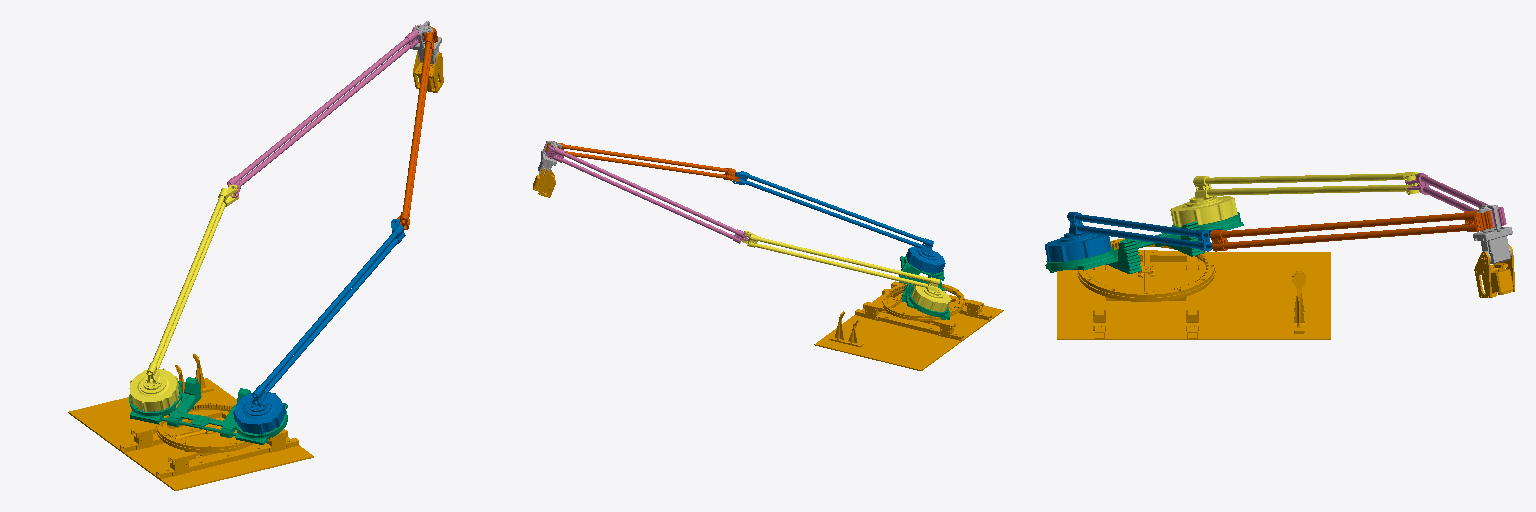
The robot description file, URDF, robot "robot2":
<?xml version="1.0" ?>
<!-- =================================================================================== -->
<!-- |    This document was autogenerated by xacro from ./robot2_description/urdf/robot2.xacro | -->
<!-- |    EDITING THIS FILE BY HAND IS NOT RECOMMENDED                                 | -->
<!-- =================================================================================== -->
<robot name="robot2">
  <material name="silver_default">
    <color rgba="0.700 0.700 0.700 1.000"/>
  </material>
  <material name="">
    <color rgba="0.3137254901960784 0.3137254901960784 0.3137254901960784 1.0"/>
  </material>
  <transmission name="回転 1_tran">
    <type>transmission_interface/SimpleTransmission</type>
    <joint name="回転 1">
      <hardwareInterface>hardware_interface/EffortJointInterface</hardwareInterface>
    </joint>
    <actuator name="回転 1_actr">
      <hardwareInterface>hardware_interface/EffortJointInterface</hardwareInterface>
      <mechanicalReduction>1</mechanicalReduction>
    </actuator>
  </transmission>
  <transmission name="回転 2_tran">
    <type>transmission_interface/SimpleTransmission</type>
    <joint name="回転 2">
      <hardwareInterface>hardware_interface/EffortJointInterface</hardwareInterface>
    </joint>
    <actuator name="回転 2_actr">
      <hardwareInterface>hardware_interface/EffortJointInterface</hardwareInterface>
      <mechanicalReduction>1</mechanicalReduction>
    </actuator>
  </transmission>
  <transmission name="回転 3_tran">
    <type>transmission_interface/SimpleTransmission</type>
    <joint name="回転 3">
      <hardwareInterface>hardware_interface/EffortJointInterface</hardwareInterface>
    </joint>
    <actuator name="回転 3_actr">
      <hardwareInterface>hardware_interface/EffortJointInterface</hardwareInterface>
      <mechanicalReduction>1</mechanicalReduction>
    </actuator>
  </transmission>
  <transmission name="回転 4_tran">
    <type>transmission_interface/SimpleTransmission</type>
    <joint name="回転 4">
      <hardwareInterface>hardware_interface/EffortJointInterface</hardwareInterface>
    </joint>
    <actuator name="回転 4_actr">
      <hardwareInterface>hardware_interface/EffortJointInterface</hardwareInterface>
      <mechanicalReduction>1</mechanicalReduction>
    </actuator>
  </transmission>
  <transmission name="回転 5_tran">
    <type>transmission_interface/SimpleTransmission</type>
    <joint name="回転 5">
      <hardwareInterface>hardware_interface/EffortJointInterface</hardwareInterface>
    </joint>
    <actuator name="回転 5_actr">
      <hardwareInterface>hardware_interface/EffortJointInterface</hardwareInterface>
      <mechanicalReduction>1</mechanicalReduction>
    </actuator>
  </transmission>
  <transmission name="回転 11_tran">
    <type>transmission_interface/SimpleTransmission</type>
    <joint name="回転 11">
      <hardwareInterface>hardware_interface/EffortJointInterface</hardwareInterface>
    </joint>
    <actuator name="回転 11_actr">
      <hardwareInterface>hardware_interface/EffortJointInterface</hardwareInterface>
      <mechanicalReduction>1</mechanicalReduction>
    </actuator>
  </transmission>
  <transmission name="回転 18_tran">
    <type>transmission_interface/SimpleTransmission</type>
    <joint name="回転 18">
      <hardwareInterface>hardware_interface/EffortJointInterface</hardwareInterface>
    </joint>
    <actuator name="回転 18_actr">
      <hardwareInterface>hardware_interface/EffortJointInterface</hardwareInterface>
      <mechanicalReduction>1</mechanicalReduction>
    </actuator>
  </transmission>
  <transmission name="回転 20_tran">
    <type>transmission_interface/SimpleTransmission</type>
    <joint name="回転 20">
      <hardwareInterface>hardware_interface/EffortJointInterface</hardwareInterface>
    </joint>
    <actuator name="回転 20_actr">
      <hardwareInterface>hardware_interface/EffortJointInterface</hardwareInterface>
      <mechanicalReduction>1</mechanicalReduction>
    </actuator>
  </transmission>
  <transmission name="回転 21_tran">
    <type>transmission_interface/SimpleTransmission</type>
    <joint name="回転 21">
      <hardwareInterface>hardware_interface/EffortJointInterface</hardwareInterface>
    </joint>
    <actuator name="回転 21_actr">
      <hardwareInterface>hardware_interface/EffortJointInterface</hardwareInterface>
      <mechanicalReduction>1</mechanicalReduction>
    </actuator>
  </transmission>
  <link name="base_link">
    <inertial>
      <origin rpy="0 0 0" xyz="0.0021492224979336194 0.05035481983310268 0.011642602005985042"/>
      <mass value="0.5608785964014465"/>
      <inertia ixx="0.00675" ixy="-0.000208" ixz="-1.2e-05" iyy="0.00419" iyz="0.000225" izz="0.010643"/>
    </inertial>
    <visual>
      <origin rpy="0 0 0" xyz="0 0 0"/>
      <geometry>
        <mesh filename="package://robot2_description/meshes/base_link.stl" scale="0.001 0.001 0.001"/>
      </geometry>
      <material name=""/>
    </visual>
    <collision>
      <origin rpy="0 0 0" xyz="0 0 0"/>
      <geometry>
        <mesh filename="package://robot2_description/meshes/base_link.stl" scale="0.001 0.001 0.001"/>
      </geometry>
    </collision>
  </link>
  <link name="base-disintegurate3_v1_1">
    <inertial>
      <origin rpy="0 0 0" xyz="0.005266660630025134 0.0025401253351865476 0.006066235848114929"/>
      <mass value="0.22737830192408823"/>
      <inertia ixx="0.001139" ixy="-2.4e-05" ixz="-1e-05" iyy="0.001107" iyz="-0.0" izz="0.002122"/>
    </inertial>
    <visual>
      <origin rpy="0 0 0" xyz="0.0 -0.0 -0.05"/>
      <geometry>
        <mesh filename="package://robot2_description/meshes/base-disintegurate3_v1_1.stl" scale="0.001 0.001 0.001"/>
      </geometry>
      <material name=""/>
    </visual>
    <collision>
      <origin rpy="0 0 0" xyz="0.0 -0.0 -0.05"/>
      <geometry>
        <mesh filename="package://robot2_description/meshes/base-disintegurate3_v1_1.stl" scale="0.001 0.001 0.001"/>
      </geometry>
    </collision>
  </link>
  <link name="base-disintegurate4_v1_1">
    <inertial>
      <origin rpy="0 0 0" xyz="0.04582353194421808 0.003093089706767067 0.01930902909294417"/>
      <mass value="0.2102831990454996"/>
      <inertia ixx="0.001297" ixy="0.000713" ixz="-6.9e-05" iyy="0.000757" iyz="-3e-05" izz="0.001974"/>
    </inertial>
    <visual>
      <origin rpy="0 0 0" xyz="0.047705 0.000482 -0.062"/>
      <geometry>
        <mesh filename="package://robot2_description/meshes/base-disintegurate4_v1_1.stl" scale="0.001 0.001 0.001"/>
      </geometry>
      <material name=""/>
    </visual>
    <collision>
      <origin rpy="0 0 0" xyz="0.047705 0.000482 -0.062"/>
      <geometry>
        <mesh filename="package://robot2_description/meshes/base-disintegurate4_v1_1.stl" scale="0.001 0.001 0.001"/>
      </geometry>
    </collision>
  </link>
  <link name="base-disintegurate5_v1_1">
    <inertial>
      <origin rpy="0 0 0" xyz="0.03515220637047642 0.03344392909904248 0.04151926678581974"/>
      <mass value="0.17650962184421506"/>
      <inertia ixx="0.001998" ixy="-0.001423" ixz="-0.000967" iyy="0.002234" iyz="-0.000887" izz="0.002989"/>
    </inertial>
    <visual>
      <origin rpy="0 0 0" xyz="0.067986 -0.086895 -0.092501"/>
      <geometry>
        <mesh filename="package://robot2_description/meshes/base-disintegurate5_v1_1.stl" scale="0.001 0.001 0.001"/>
      </geometry>
      <material name=""/>
    </visual>
    <collision>
      <origin rpy="0 0 0" xyz="0.067986 -0.086895 -0.092501"/>
      <geometry>
        <mesh filename="package://robot2_description/meshes/base-disintegurate5_v1_1.stl" scale="0.001 0.001 0.001"/>
      </geometry>
    </collision>
  </link>
  <link name="base-disintegurate6_v1_1">
    <inertial>
      <origin rpy="0 0 0" xyz="0.04460466843110386 0.0191276233320319 0.04150116119084127"/>
      <mass value="0.17650962334160306"/>
      <inertia ixx="0.001187" ixy="-0.001084" ixz="-0.001191" iyy="0.003045" iyz="-0.00055" izz="0.002989"/>
    </inertial>
    <visual>
      <origin rpy="0 0 0" xyz="-0.053769 0.096342 -0.092501"/>
      <geometry>
        <mesh filename="package://robot2_description/meshes/base-disintegurate6_v1_1.stl" scale="0.001 0.001 0.001"/>
      </geometry>
      <material name=""/>
    </visual>
    <collision>
      <origin rpy="0 0 0" xyz="-0.053769 0.096342 -0.092501"/>
      <geometry>
        <mesh filename="package://robot2_description/meshes/base-disintegurate6_v1_1.stl" scale="0.001 0.001 0.001"/>
      </geometry>
    </collision>
  </link>
  <link name="base-disintegurate7_v1_1">
    <inertial>
      <origin rpy="0 0 0" xyz="0.1671601669415777 0.208933062117106 0.09978407899189912"/>
      <mass value="0.04387247122504098"/>
      <inertia ixx="0.001059" ixy="-0.00065" ixz="-0.000273" iyy="0.000635" iyz="-0.000377" izz="0.001369"/>
    </inertial>
    <visual>
      <origin rpy="0 0 0" xyz="-0.464894 -0.105487 -0.302909"/>
      <geometry>
        <mesh filename="package://robot2_description/meshes/base-disintegurate7_v1_1.stl" scale="0.001 0.001 0.001"/>
      </geometry>
      <material name=""/>
    </visual>
    <collision>
      <origin rpy="0 0 0" xyz="-0.464894 -0.105487 -0.302909"/>
      <geometry>
        <mesh filename="package://robot2_description/meshes/base-disintegurate7_v1_1.stl" scale="0.001 0.001 0.001"/>
      </geometry>
    </collision>
  </link>
  <link name="base-disintegurate7_v1__1__1">
    <inertial>
      <origin rpy="0 0 0" xyz="0.257549683667159 0.07327149184067328 0.09922024329514112"/>
      <mass value="0.04387247122504098"/>
      <inertia ixx="0.000234" ixy="-0.000304" ixz="-0.000453" iyy="0.001459" iyz="-0.000106" izz="0.001369"/>
    </inertial>
    <visual>
      <origin rpy="0 0 0" xyz="-0.277362 -0.387716 -0.302909"/>
      <geometry>
        <mesh filename="package://robot2_description/meshes/base-disintegurate7_v1__1__1.stl" scale="0.001 0.001 0.001"/>
      </geometry>
      <material name=""/>
    </visual>
    <collision>
      <origin rpy="0 0 0" xyz="-0.277362 -0.387716 -0.302909"/>
      <geometry>
        <mesh filename="package://robot2_description/meshes/base-disintegurate7_v1__1__1.stl" scale="0.001 0.001 0.001"/>
      </geometry>
    </collision>
  </link>
  <link name="base-disintegurate8_v1_1">
    <inertial>
      <origin rpy="0 0 0" xyz="0.00688614293608103 0.01794723838108353 -0.043045643189845606"/>
      <mass value="0.051380977028046323"/>
      <inertia ixx="2.2e-05" ixy="0.0" ixz="4e-06" iyy="2.2e-05" iyz="3e-06" izz="1.2e-05"/>
    </inertial>
    <visual>
      <origin rpy="0 0 0" xyz="-0.756507 -0.489165 -0.488922"/>
      <geometry>
        <mesh filename="package://robot2_description/meshes/base-disintegurate8_v1_1.stl" scale="0.001 0.001 0.001"/>
      </geometry>
      <material name=""/>
    </visual>
    <collision>
      <origin rpy="0 0 0" xyz="-0.756507 -0.489165 -0.488922"/>
      <geometry>
        <mesh filename="package://robot2_description/meshes/base-disintegurate8_v1_1.stl" scale="0.001 0.001 0.001"/>
      </geometry>
    </collision>
  </link>
  <link name="hand-disi1_v1_1">
    <inertial>
      <origin rpy="0 0 0" xyz="-0.011134487065667664 0.015413598961266206 -0.038856830759737226"/>
      <mass value="0.052712208364185616"/>
      <inertia ixx="1.9e-05" ixy="-0.0" ixz="-0.0" iyy="1.9e-05" iyz="-0.0" izz="1.6e-05"/>
    </inertial>
    <visual>
      <origin rpy="0 0 0" xyz="-0.779858 -0.495376 -0.426043"/>
      <geometry>
        <mesh filename="package://robot2_description/meshes/hand-disi1_v1_1.stl" scale="0.001 0.001 0.001"/>
      </geometry>
      <material name=""/>
    </visual>
    <collision>
      <origin rpy="0 0 0" xyz="-0.779858 -0.495376 -0.426043"/>
      <geometry>
        <mesh filename="package://robot2_description/meshes/hand-disi1_v1_1.stl" scale="0.001 0.001 0.001"/>
      </geometry>
    </collision>
  </link>
  <link name="hand--dis1_v1_1">
    <inertial>
      <origin rpy="0 0 0" xyz="0.013977005536962461 0.006299413187571212 -0.041516132079400025"/>
      <mass value="0.2294129503431717"/>
      <inertia ixx="0.000256" ixy="-1.8e-05" ixz="-2.3e-05" iyy="0.000268" iyz="-9e-06" izz="0.0003"/>
    </inertial>
    <visual>
      <origin rpy="0 0 0" xyz="-0.785723 -0.522085 -0.372011"/>
      <geometry>
        <mesh filename="package://robot2_description/meshes/hand--dis1_v1_1.stl" scale="0.001 0.001 0.001"/>
      </geometry>
      <material name=""/>
    </visual>
    <collision>
      <origin rpy="0 0 0" xyz="-0.785723 -0.522085 -0.372011"/>
      <geometry>
        <mesh filename="package://robot2_description/meshes/hand--dis1_v1_1.stl" scale="0.001 0.001 0.001"/>
      </geometry>
    </collision>
  </link>
  <joint name="回転 1" type="revolute">
    <origin rpy="0 0 0" xyz="0.0 0.0 0.05"/>
    <parent link="base_link"/>
    <child link="base-disintegurate3_v1_1"/>
    <axis xyz="0.0 0.0 -1.0"/>
    <limit effort="100" lower="0.0" upper="6.283185" velocity="100"/>
  </joint>
  <joint name="回転 2" type="revolute">
    <origin rpy="0 0 0" xyz="-0.047705 -0.000482 0.012"/>
    <parent link="base-disintegurate3_v1_1"/>
    <child link="base-disintegurate4_v1_1"/>
    <axis xyz="-0.55343 0.832896 -0.0"/>
    <limit effort="100" lower="-0.349066" upper="0.087266" velocity="100"/>
  </joint>
  <joint name="回転 3" type="revolute">
    <origin rpy="0 0 0" xyz="-0.020281 0.087377 0.030501"/>
    <parent link="base-disintegurate4_v1_1"/>
    <child link="base-disintegurate5_v1_1"/>
    <axis xyz="0.284867 0.189284 -0.939693"/>
    <limit effort="100" lower="-1.047198" upper="0.0" velocity="100"/>
  </joint>
  <joint name="回転 4" type="revolute">
    <origin rpy="0 0 0" xyz="0.101474 -0.09586 0.030501"/>
    <parent link="base-disintegurate4_v1_1"/>
    <child link="base-disintegurate6_v1_1"/>
    <axis xyz="0.284867 0.189284 -0.939693"/>
    <limit effort="100" lower="0.0" upper="1.047198" velocity="100"/>
  </joint>
  <joint name="回転 5" type="revolute">
    <origin rpy="0 0 0" xyz="0.411125 0.201829 0.210408"/>
    <parent link="base-disintegurate6_v1_1"/>
    <child link="base-disintegurate7_v1_1"/>
    <axis xyz="-0.284867 -0.189284 0.939693"/>
    <limit effort="100" lower="0.0" upper="2.617994" velocity="100"/>
  </joint>
  <joint name="回転 11" type="revolute">
    <origin rpy="0 0 0" xyz="0.345348 0.300821 0.210408"/>
    <parent link="base-disintegurate5_v1_1"/>
    <child link="base-disintegurate7_v1__1__1"/>
    <axis xyz="-0.284867 -0.189284 0.939693"/>
    <limit effort="100" lower="-0.523599" upper="1.570796" velocity="100"/>
  </joint>
  <joint name="回転 18" type="revolute">
    <origin rpy="0 0 0" xyz="0.291613 0.383678 0.186013"/>
    <parent link="base-disintegurate7_v1_1"/>
    <child link="base-disintegurate8_v1_1"/>
    <axis xyz="-0.284867 -0.189284 0.939693"/>
    <limit effort="100" lower="-1.570796" upper="0.0" velocity="100"/>
  </joint>
  <joint name="回転 20" type="revolute">
    <origin rpy="0 0 0" xyz="0.023351 0.006211 -0.062879"/>
    <parent link="base-disintegurate8_v1_1"/>
    <child link="hand-disi1_v1_1"/>
    <axis xyz="-0.55343 0.832896 -0.0"/>
    <limit effort="100" lower="-1.745329" upper="1.396263" velocity="100"/>
  </joint>
  <joint name="回転 21" type="revolute">
    <origin rpy="0 0 0" xyz="0.005865 0.026709 -0.054032"/>
    <parent link="hand-disi1_v1_1"/>
    <child link="hand--dis1_v1_1"/>
    <axis xyz="-0.284867 -0.189284 0.939693"/>
    <limit effort="100" lower="-1.570796" upper="1.570796" velocity="100"/>
  </joint>
</robot>

--- Facts derived from the render (not from the file) ---
3 views of the same robot in one strip: view 1: azimuth 30°, elevation 25°; view 2: azimuth 150°, elevation 25°; view 3: azimuth 270°, elevation 25° (orthographic).
Robot: robot2 — 10 links, 9 joints (9 revolute); root link base_link; default pose: all joints at 0.
Links seen in each view (by area): view 1: base_link, base-disintegurate6_v1_1, base-disintegurate5_v1_1, base-disintegurate4_v1_1, base-disintegurate7_v1__1__1, base-disintegurate7_v1_1, hand-disi1_v1_1; view 2: base_link, base-disintegurate6_v1_1, base-disintegurate5_v1_1, base-disintegurate7_v1__1__1, base-disintegurate7_v1_1, base-disintegurate4_v1_1; view 3: base_link, base-disintegurate5_v1_1, base-disintegurate7_v1_1, base-disintegurate6_v1_1, base-disintegurate4_v1_1, hand-disi1_v1_1, base-disintegurate7_v1__1__1, base-disintegurate8_v1_1.
Link boxes in pixels (bbox=[...]): base_link: bbox=[68, 354, 313, 490]; base-disintegurate6_v1_1: bbox=[233, 219, 405, 434]; base-disintegurate5_v1_1: bbox=[129, 184, 238, 411]; base-disintegurate4_v1_1: bbox=[129, 377, 287, 444]; base-disintegurate7_v1__1__1: bbox=[227, 24, 424, 197]; base-disintegurate7_v1_1: bbox=[397, 26, 437, 229]; hand-disi1_v1_1: bbox=[413, 51, 443, 92]; base_link: bbox=[814, 281, 1003, 370]; base-disintegurate6_v1_1: bbox=[732, 171, 945, 273]; base-disintegurate5_v1_1: bbox=[742, 231, 951, 311]; base-disintegurate7_v1__1__1: bbox=[546, 145, 748, 243]; base-disintegurate7_v1_1: bbox=[545, 141, 740, 181]; base-disintegurate4_v1_1: bbox=[899, 256, 949, 319]; base_link: bbox=[1057, 238, 1330, 339]; base-disintegurate5_v1_1: bbox=[1170, 172, 1418, 226]; base-disintegurate7_v1_1: bbox=[1210, 210, 1493, 251]; base-disintegurate6_v1_1: bbox=[1045, 212, 1221, 261]; base-disintegurate4_v1_1: bbox=[1045, 212, 1243, 273]; hand-disi1_v1_1: bbox=[1474, 245, 1514, 297]; base-disintegurate7_v1__1__1: bbox=[1405, 173, 1506, 226]; base-disintegurate8_v1_1: bbox=[1473, 205, 1512, 263].
Bounding box of the posed robot: 0.9481 × 0.6863 × 0.5013 m (x, y, z).
Meshes: 10 distinct files referenced, 8 mesh visuals loaded (8 binary STL); not drawn: 2 (reference not matched to a file when rendering).
